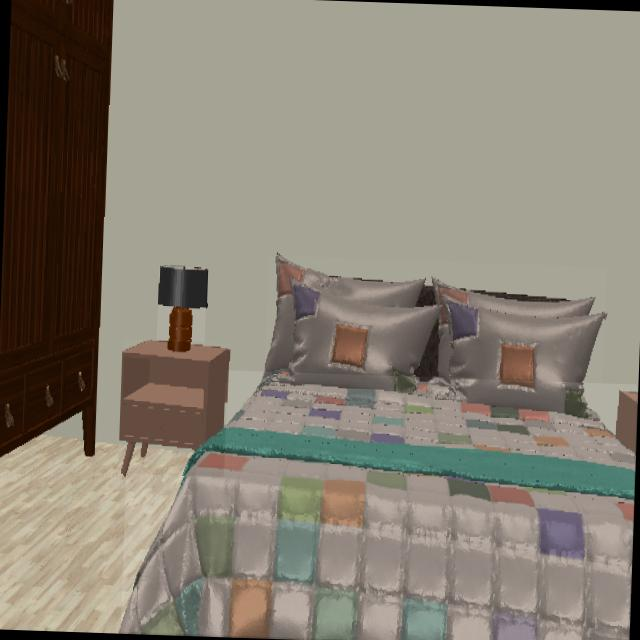bed: (121, 372, 634, 640)
cabinet: (0, 0, 111, 457)
lamp: (158, 266, 207, 350)
nighttable: (119, 341, 227, 473)
pillow: (265, 256, 603, 412)
